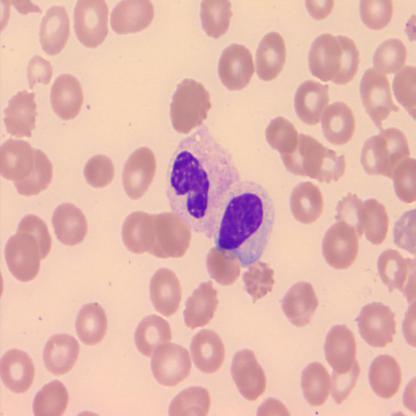Metamyelocyte: (210, 176, 277, 270)
